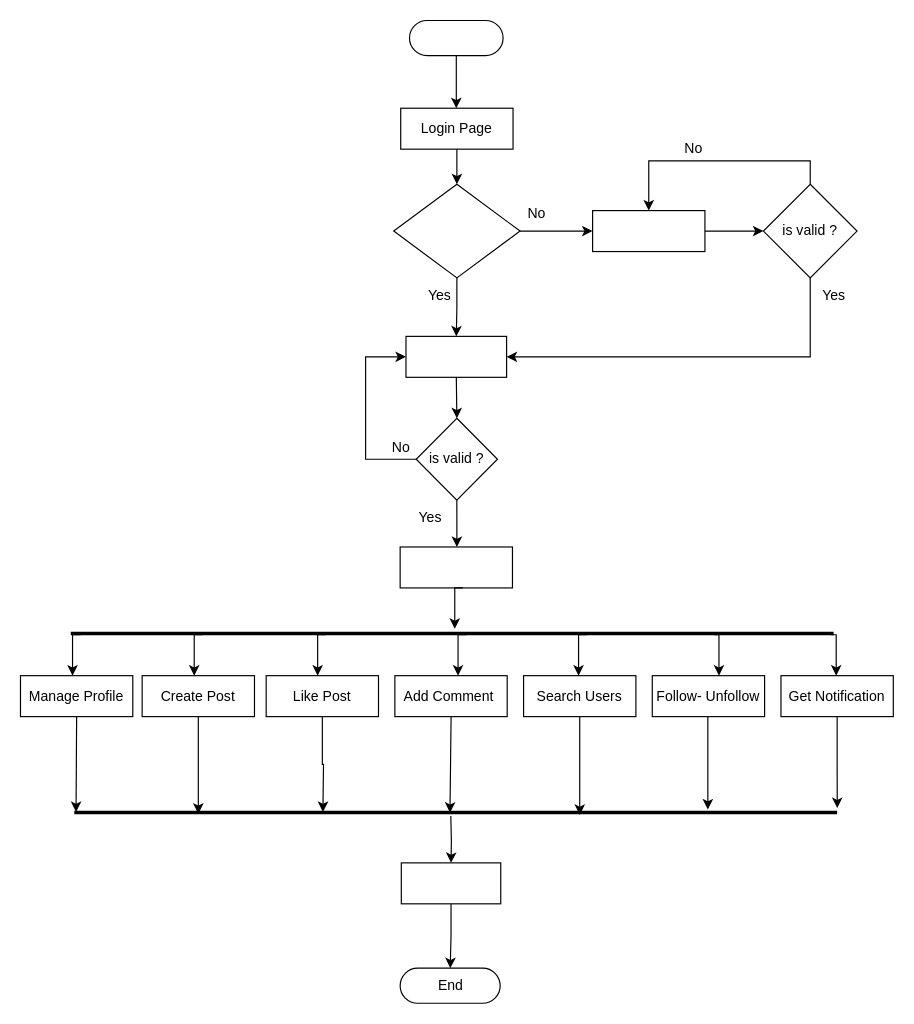
Image size: 914x1024. Some labels were removed from this diagram. Each missing label, with the box of its shape:
Already have account ?: (393, 183, 520, 278)
Enter Login Details: (405, 335, 507, 377)
Home Page: (399, 546, 512, 588)
Logout: (400, 862, 501, 904)
Register: (591, 209, 705, 252)
Start: (408, 19, 503, 56)
